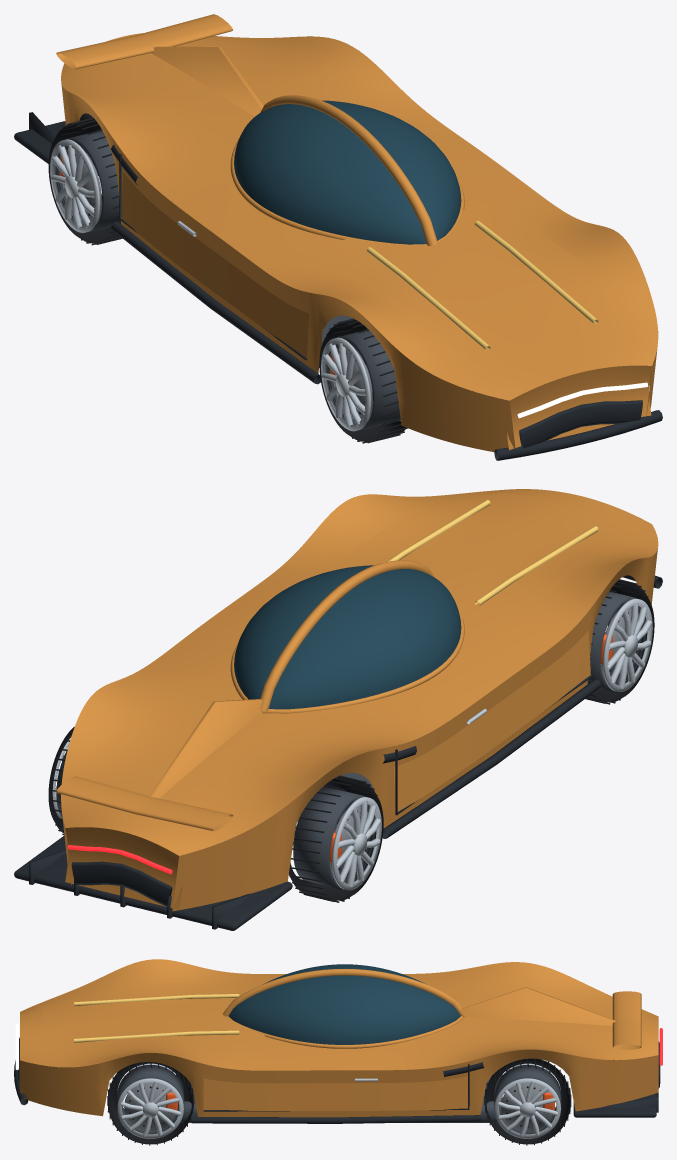
File: concept-solstice.glb
3 views of the same model, one above another, from view 1: azimuth 30°, elevation 25°; view 2: azimuth 150°, elevation 25°; view 3: azimuth 270°, elevation 25° (orthographic). The views are drawn at different scales.
Visible parts, largest first — view 1: Sculpted unibody upper shell, Hood, RoofGlass_canopy, SidePanelL_arched_fender_skin, DoorL, RimFrontL_layered_forged, RimRearL_layered_forged, FrontBumper, Wing, Dorsal_stability_fin, FrontBumper_carbon_inlet, RockerL (+8 smaller); view 2: Sculpted unibody upper shell, RoofGlass_canopy, Hood, SidePanelL_arched_fender_skin, DoorL, RimRearL_layered_forged, Diffuser, RimFrontL_layered_forged, RearBumper, Wing, Dorsal_stability_fin, RockerL (+7 smaller); view 3: Sculpted unibody upper shell, SidePanelR_arched_fender_skin, RoofGlass_canopy, Hood, DoorR, RimFrontR_layered_forged, RimRearR_layered_forged, Dorsal_stability_fin, RockerR, TireRearR_directional_tread, Roof_structural_spine, Wing (+7 smaller).
Part boxes in pixels (x1=…): Sculpted unibody upper shell: x1=61, y1=33, x2=658, y2=400; Hood: x1=310, y1=204, x2=626, y2=375; RoofGlass_canopy: x1=234, y1=100, x2=461, y2=244; SidePanelL_arched_fender_skin: x1=61, y1=80, x2=515, y2=452; DoorL: x1=121, y1=172, x2=308, y2=358; RimFrontL_layered_forged: x1=321, y1=330, x2=400, y2=431; RimRearL_layered_forged: x1=50, y1=130, x2=120, y2=232; FrontBumper: x1=507, y1=365, x2=651, y2=449; Wing: x1=56, y1=14, x2=232, y2=69; Dorsal_stability_fin: x1=151, y1=46, x2=263, y2=116; FrontBumper_carbon_inlet: x1=519, y1=400, x2=642, y2=448; RockerL: x1=111, y1=222, x2=320, y2=384; Sculpted unibody upper shell: x1=61, y1=489, x2=658, y2=855; RoofGlass_canopy: x1=234, y1=565, x2=461, y2=709; Hood: x1=329, y1=492, x2=626, y2=631; SidePanelL_arched_fender_skin: x1=172, y1=545, x2=658, y2=911; DoorL: x1=393, y1=630, x2=590, y2=811; RimRearL_layered_forged: x1=293, y1=787, x2=381, y2=890; Diffuser: x1=14, y1=836, x2=292, y2=930; RimFrontL_layered_forged: x1=587, y1=591, x2=652, y2=691; RearBumper: x1=65, y1=827, x2=181, y2=909; Wing: x1=56, y1=776, x2=233, y2=831; Dorsal_stability_fin: x1=149, y1=699, x2=262, y2=798; RockerL: x1=382, y1=679, x2=601, y2=838; Sculpted unibody upper shell: x1=20, y1=959, x2=658, y2=1070; SidePanelR_arched_fender_skin: x1=20, y1=1049, x2=658, y2=1117; RoofGlass_canopy: x1=228, y1=964, x2=460, y2=1044; Hood: x1=43, y1=983, x2=264, y2=1051; DoorR: x1=203, y1=1076, x2=467, y2=1110; RimFrontR_layered_forged: x1=117, y1=1064, x2=184, y2=1138; RimRearR_layered_forged: x1=494, y1=1064, x2=561, y2=1138; Dorsal_stability_fin: x1=461, y1=987, x2=615, y2=1025; RockerR: x1=191, y1=1115, x2=480, y2=1123; TireRearR_directional_tread: x1=484, y1=1058, x2=571, y2=1145; Roof_structural_spine: x1=222, y1=968, x2=465, y2=1016; Wing: x1=612, y1=991, x2=641, y2=1049.
Bounding box in the file's own units: 1.96 × 1.2 × 5.39.
